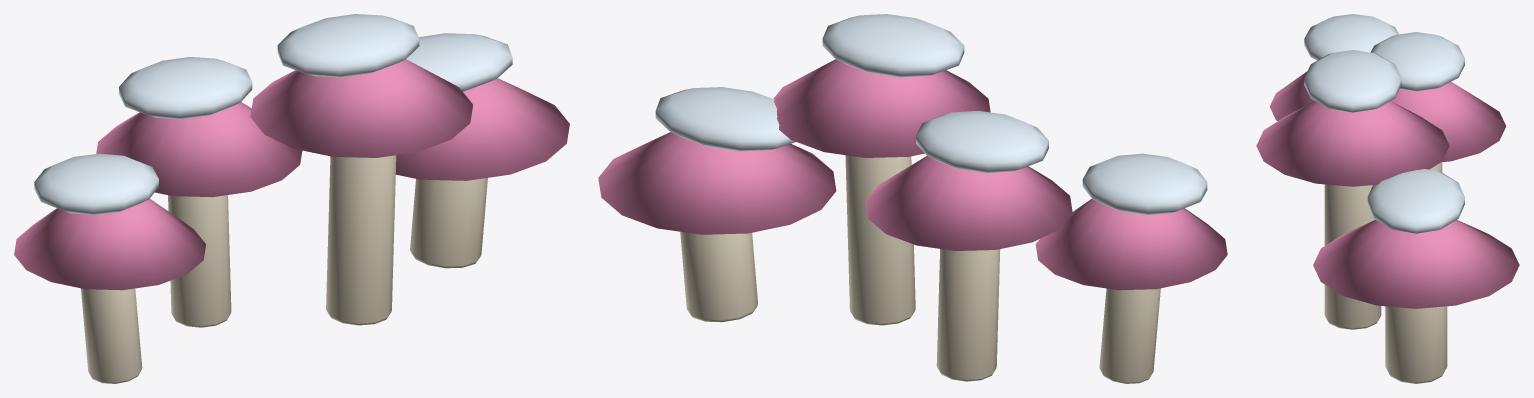
File: r086_development_northern_kingdom_additions_northern_15.glb
3 renders of one model, left to right at view 1: azimuth 30°, elevation 25°; view 2: azimuth 150°, elevation 25°; view 3: azimuth 270°, elevation 25°, orthographic. The views are drawn at different scales.
Parts seen in each view (by area): view 1: r086_development_northern_kingdom_additions_northern_15.001; view 2: r086_development_northern_kingdom_additions_northern_15.001; view 3: r086_development_northern_kingdom_additions_northern_15.001.
Part boxes in pixels (x1,y1,x2,y2): r086_development_northern_kingdom_additions_northern_15.001: (14, 14, 569, 383); r086_development_northern_kingdom_additions_northern_15.001: (598, 14, 1227, 383); r086_development_northern_kingdom_additions_northern_15.001: (1256, 14, 1519, 383).
Size of the model in its own units: 3.37 by 1.65 by 1.58.
